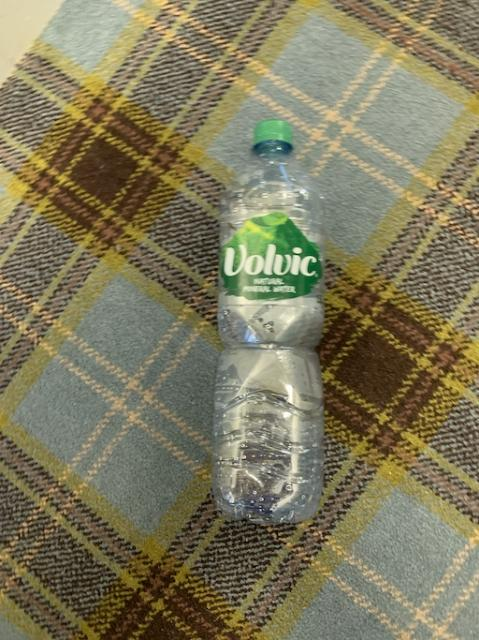plastic: (212, 118, 322, 522)
